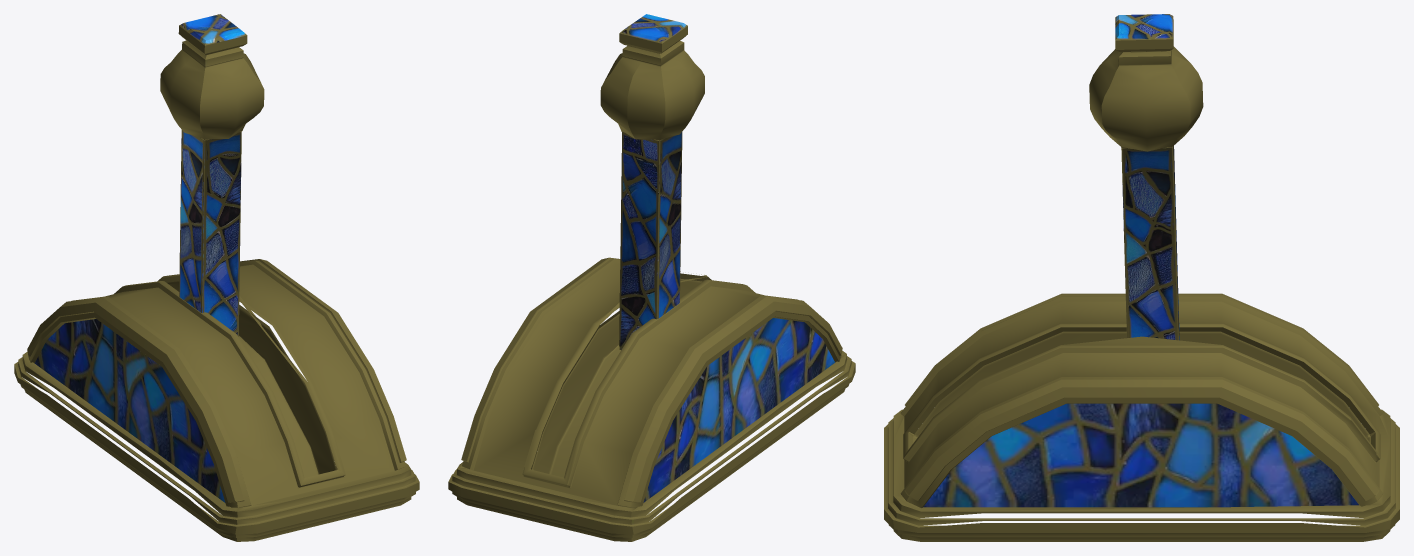
The model's file is leverWholeP1_lowPoly_lowPoly.glb.
3 views of the same model, side by side, from view 1: azimuth 30°, elevation 25°; view 2: azimuth 150°, elevation 25°; view 3: azimuth 270°, elevation 25° (orthographic). The views are drawn at different scales.
Parts seen in each view (by area): view 1: Mesh_1.001; view 2: Mesh_1.001; view 3: Mesh_1.001.
Part boxes in pixels (x1,y1,x2,y2): Mesh_1.001: [14, 14, 419, 541]; Mesh_1.001: [448, 14, 855, 541]; Mesh_1.001: [884, 14, 1399, 541].
Bounding box in the file's own units: 0.4998 × 1 × 1.
Materials: 2 (2 with a texture image).
